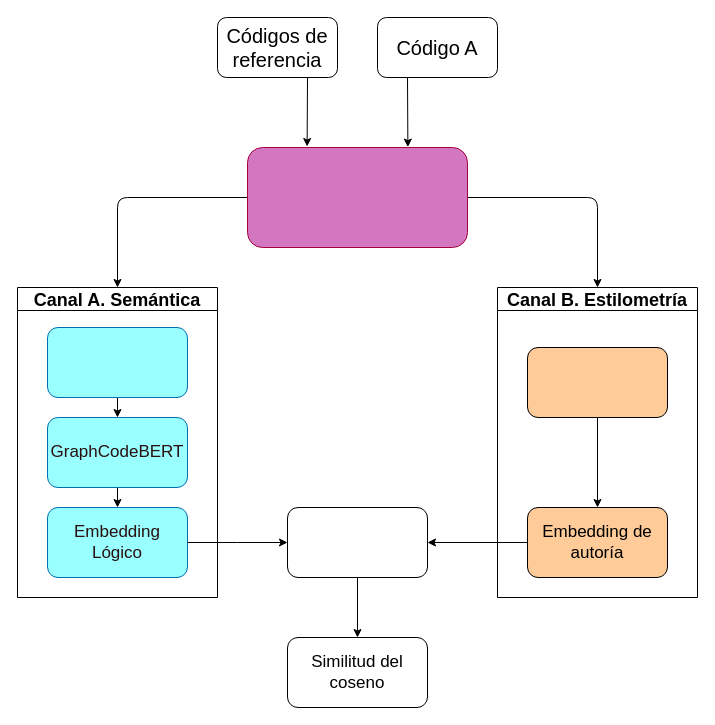
This 715x725 diagram has some shape labels left out. Each missing label, with the centre of its shape:
"CharCNN" belongs at [597,382].
"Extracción de DFG" belongs at [117,362].
"Fusión de características" belongs at [357,542].
"Módulo de preprocesamiento" belongs at [357,197].
